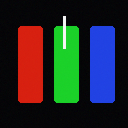4 line_v: (63, 16, 65, 48)
